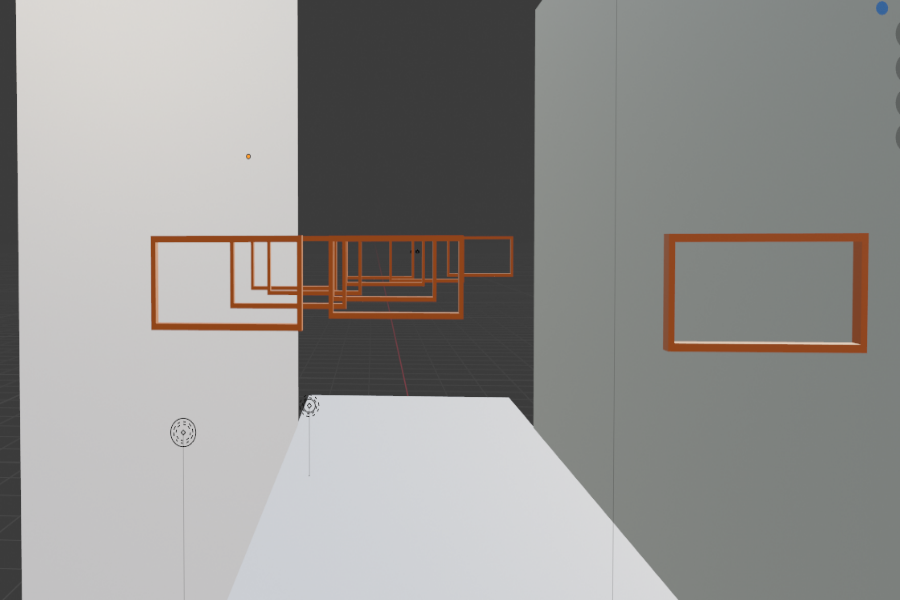GATE: (654, 226, 870, 354)
